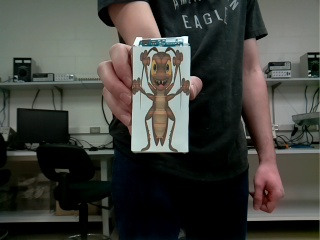Angry: (132, 47, 190, 152)
